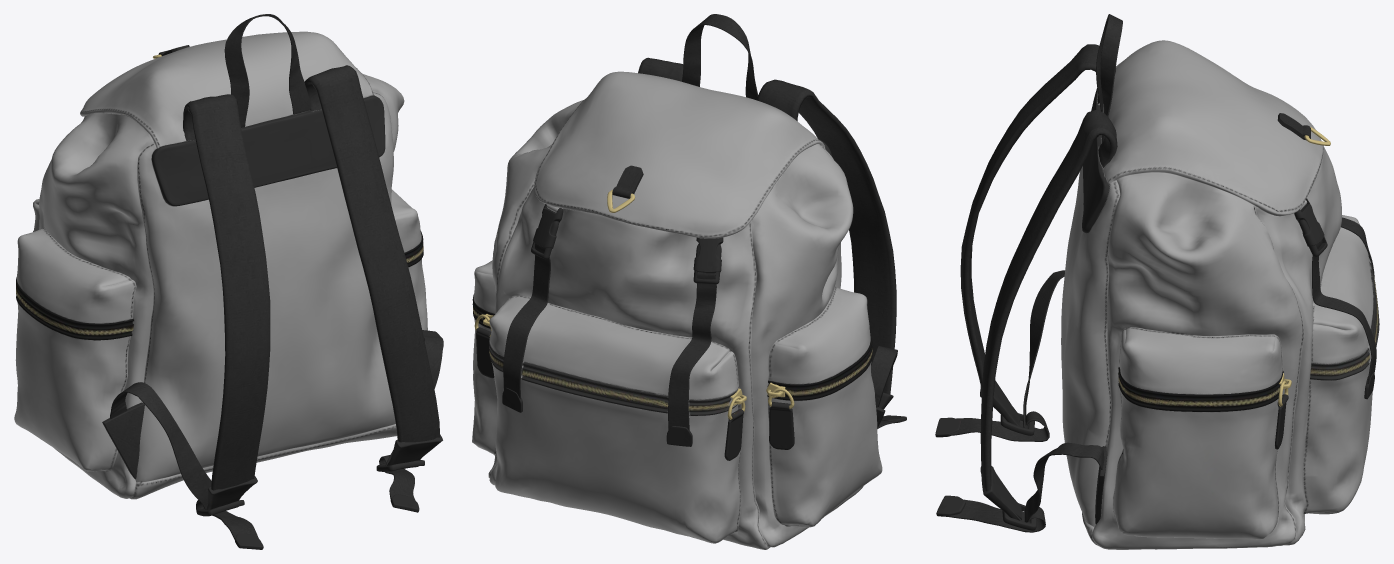
File: backpack.glb
The picture shows the model from 3 angles, left to right: view 1: azimuth 30°, elevation 25°; view 2: azimuth 150°, elevation 25°; view 3: azimuth 270°, elevation 25°; orthographic projection. The views are drawn at different scales.
Parts seen in each view (by area): view 1: Final; view 2: Final; view 3: Final.
Part boxes in pixels (x1,y1,x2,y2): Final: [14, 14, 443, 549]; Final: [472, 14, 906, 549]; Final: [935, 14, 1379, 549].
Size of the model in its own units: 41.02 by 48.03 by 41.75.
1 material, 1 textured.
